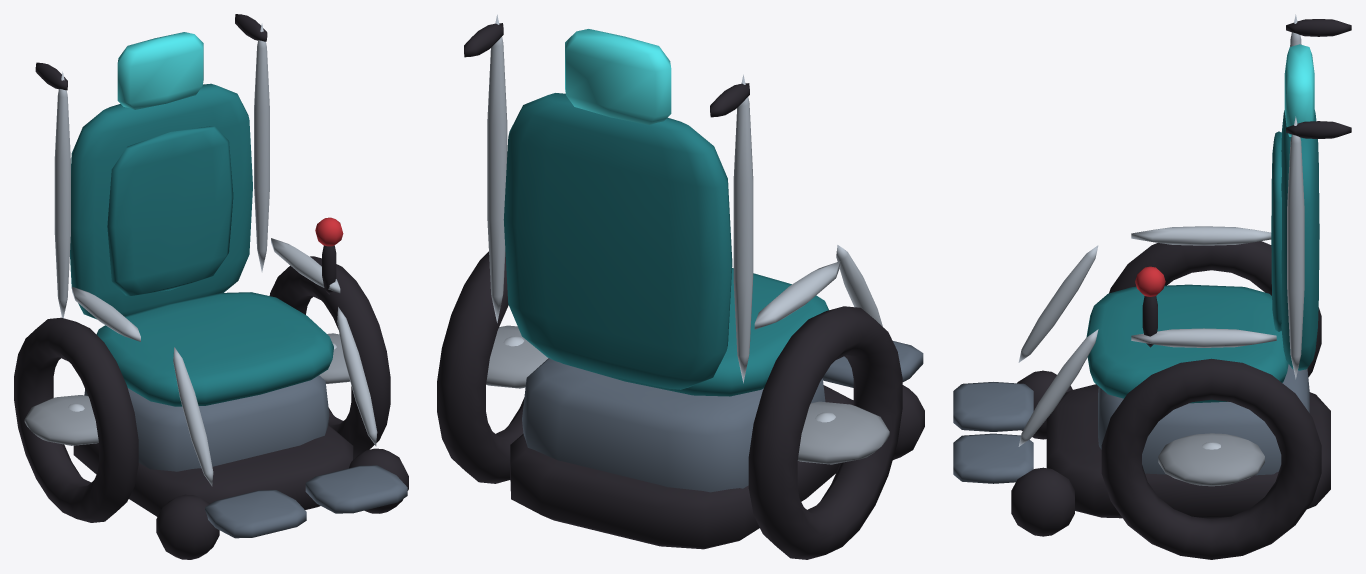
The model's file is wheelchair-power.glb.
The picture shows the model from 3 angles, left to right: view 1: azimuth 30°, elevation 25°; view 2: azimuth 150°, elevation 25°; view 3: azimuth 270°, elevation 25°; orthographic projection. The views are drawn at different scales.
Visible parts, largest first — view 1: cushion, chair, wheel_r, wheel_l; view 2: chair, cushion, wheel_r, wheel_l; view 3: chair, wheel_l, cushion, wheel_r.
Boxes of the visible parts, <box> form: cushion: <box>70,83,333,406</box>; chair: <box>35,14,408,559</box>; wheel_r: <box>14,317,138,522</box>; wheel_l: <box>269,256,390,459</box>; chair: <box>464,14,924,549</box>; cushion: <box>503,93,828,396</box>; wheel_r: <box>748,306,902,559</box>; wheel_l: <box>437,251,548,483</box>; chair: <box>953,14,1351,536</box>; wheel_l: <box>1101,358,1321,559</box>; cushion: <box>1086,110,1319,403</box>; wheel_r: <box>1109,241,1321,377</box>.
Size of the model in its own units: 0.543 by 0.63 by 0.5201.
Materials: 1 (1 with a texture image).
